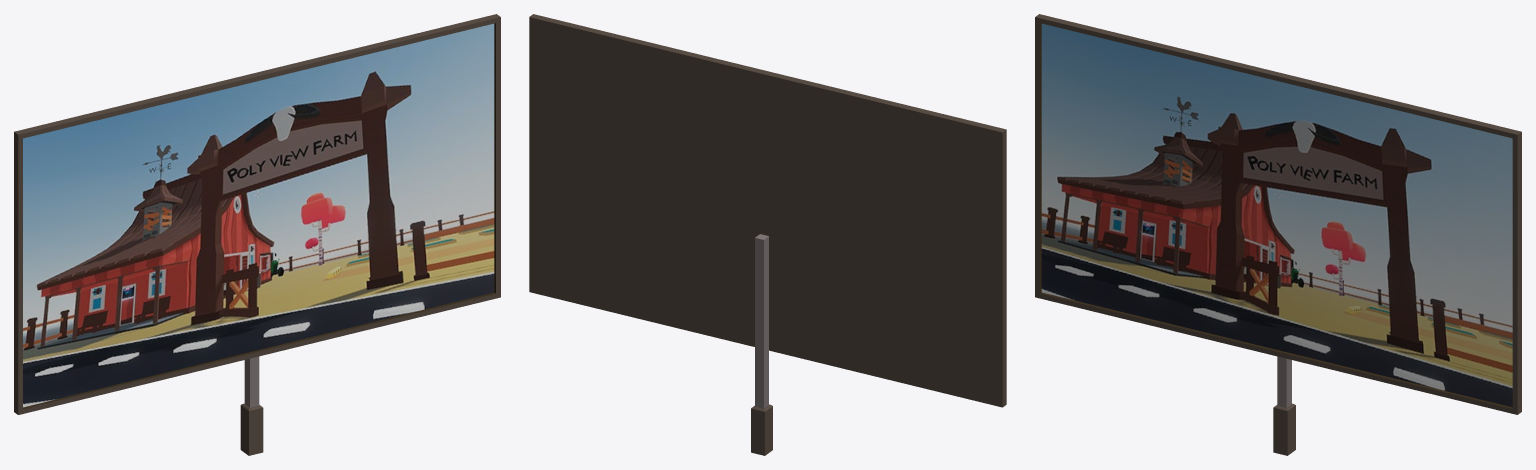
The model's file is hackathon_winner.glb.
3 renders of one model, left to right at view 1: azimuth 30°, elevation 25°; view 2: azimuth 150°, elevation 25°; view 3: azimuth 330°, elevation 25°, orthographic.
Parts seen in each view (by area): view 1: hackathon-winner; view 2: hackathon-winner; view 3: hackathon-winner.
Boxes of the visible parts, x1=… form: hackathon-winner: x1=14, y1=14, x2=500, y2=455; hackathon-winner: x1=529, y1=14, x2=1006, y2=455; hackathon-winner: x1=1035, y1=14, x2=1521, y2=455.
Size of what is drawn, in the model's own units: 7.43 by 5.61 by 0.3223.
2 materials, 2 textured.
